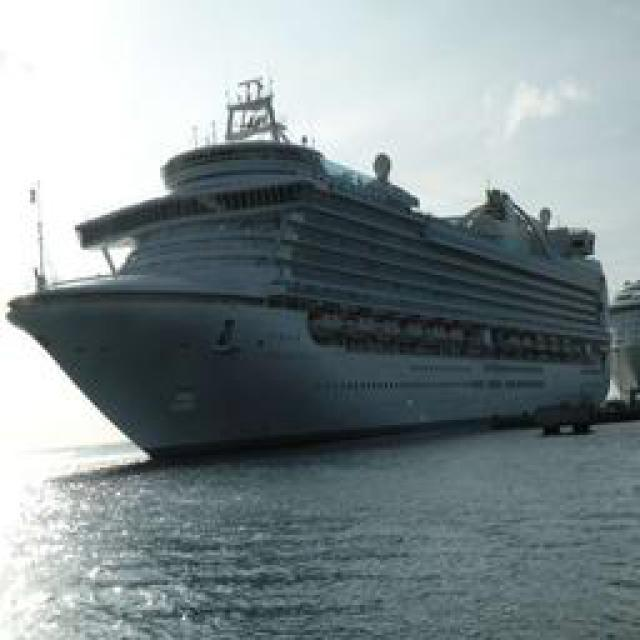Ship: (18, 108, 623, 466)
